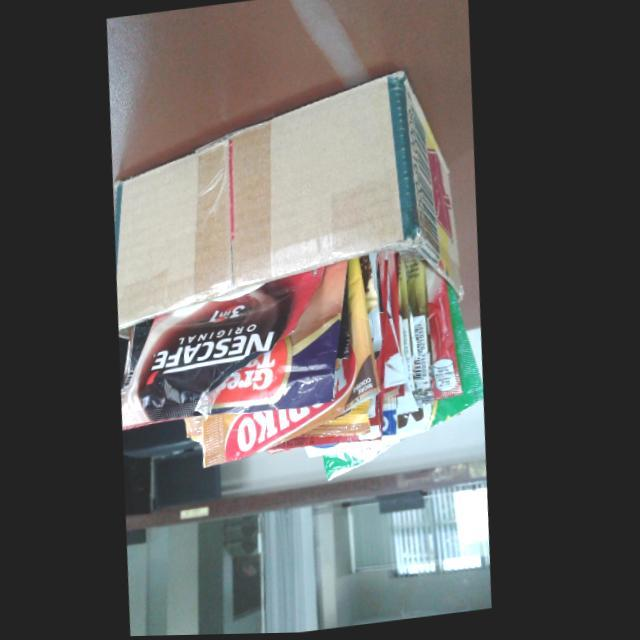paper: (118, 72, 462, 340)
wrapper: (275, 248, 489, 479), (208, 258, 389, 467), (126, 261, 350, 429)
